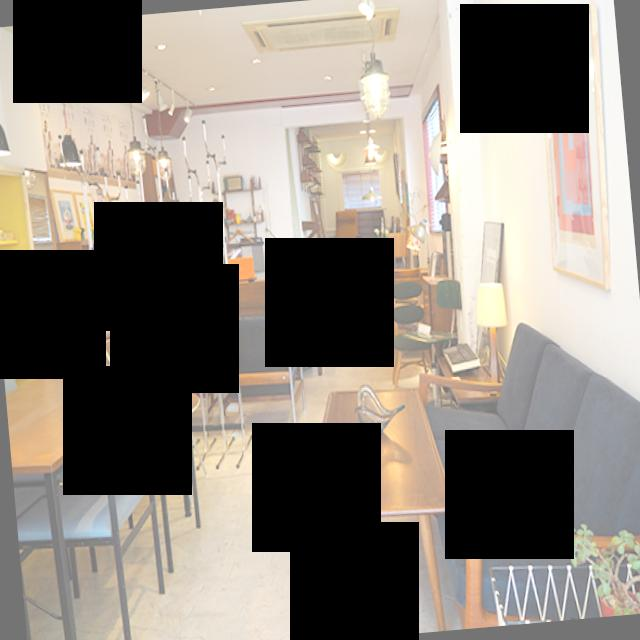vintage chair: (5, 380, 180, 640)
vintage desk: (285, 367, 466, 640)
vintage sofa: (409, 292, 640, 631)
